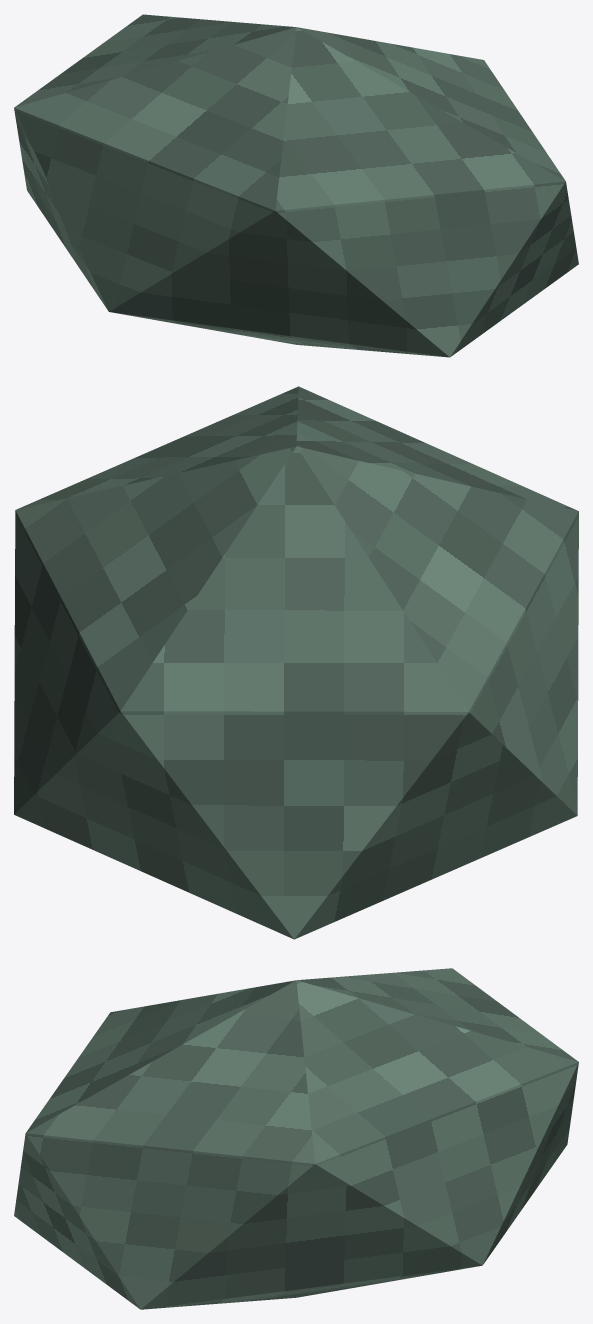
File: rock_22.glb
3 views of the same model, one above another, from view 1: azimuth 30°, elevation 25°; view 2: azimuth 150°, elevation 25°; view 3: azimuth 270°, elevation 25° (orthographic). The views are drawn at different scales.
Visible parts, largest first — view 1: WeatheredStone; view 2: WeatheredStone; view 3: WeatheredStone.
Boxes of the visible parts, left/top/right/bottom form: WeatheredStone: left=14, top=14, right=578, bottom=357; WeatheredStone: left=14, top=386, right=578, bottom=939; WeatheredStone: left=14, top=968, right=578, bottom=1309.
Bounding box in the file's own units: 1.91 × 1.42 × 2.28.
1 material, 1 textured.
